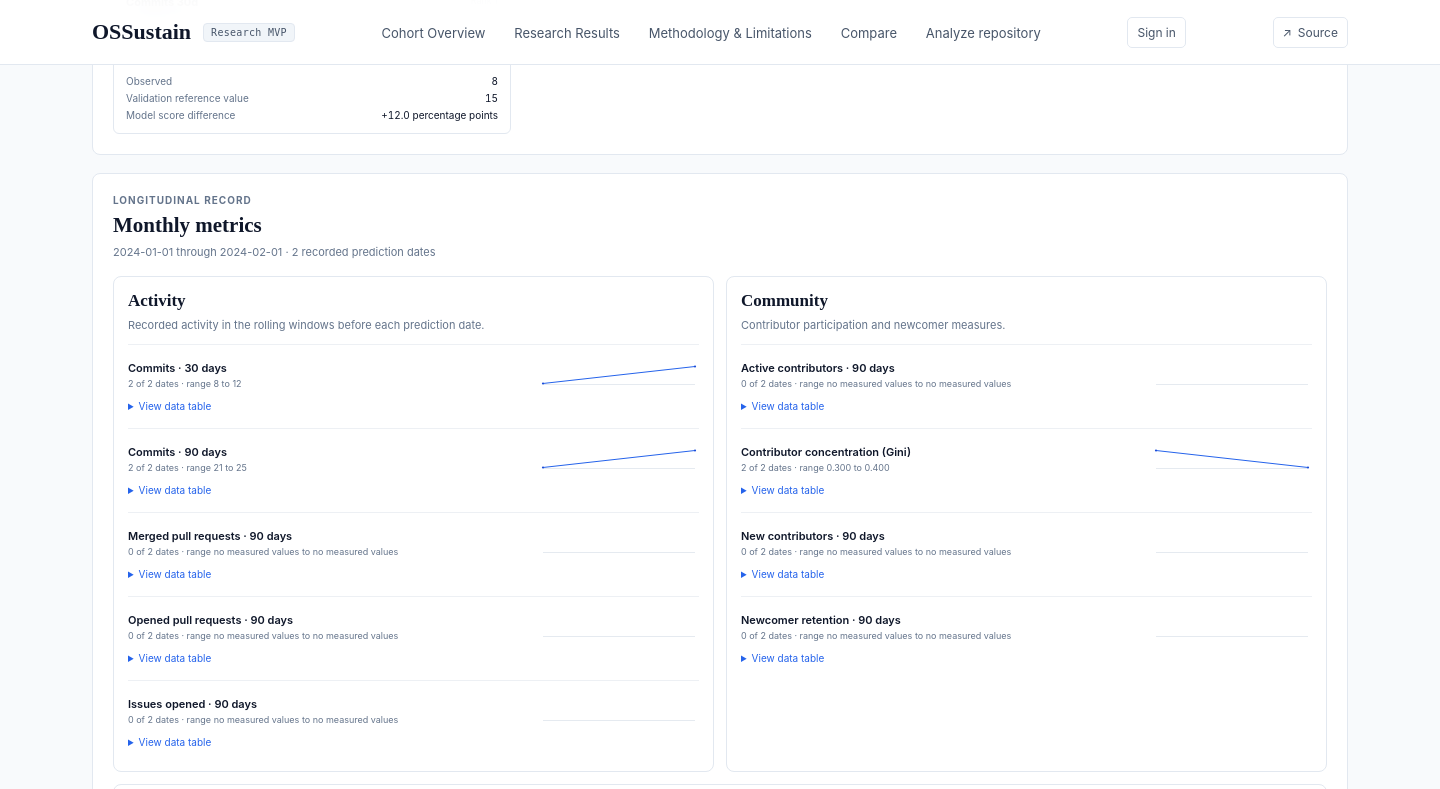
Dashboard screens › renders live repository detail, prediction indicators, charts, and accessible table data
(page scrolled)
Expected: the text "This value is associated with a higher model risk score, not a causal effect." is shown, x1=126 y1=18 x2=479 y2=30
Expected: the picture named "Commits · 30 days over 2 prediction dates" is shown, x1=539 y1=354 x2=699 y2=396
Click the heading "View data table" below "Commits · 30 days".
click(170, 406)  # box x1=128 y1=400 x2=211 y2=412
(page scrolled)
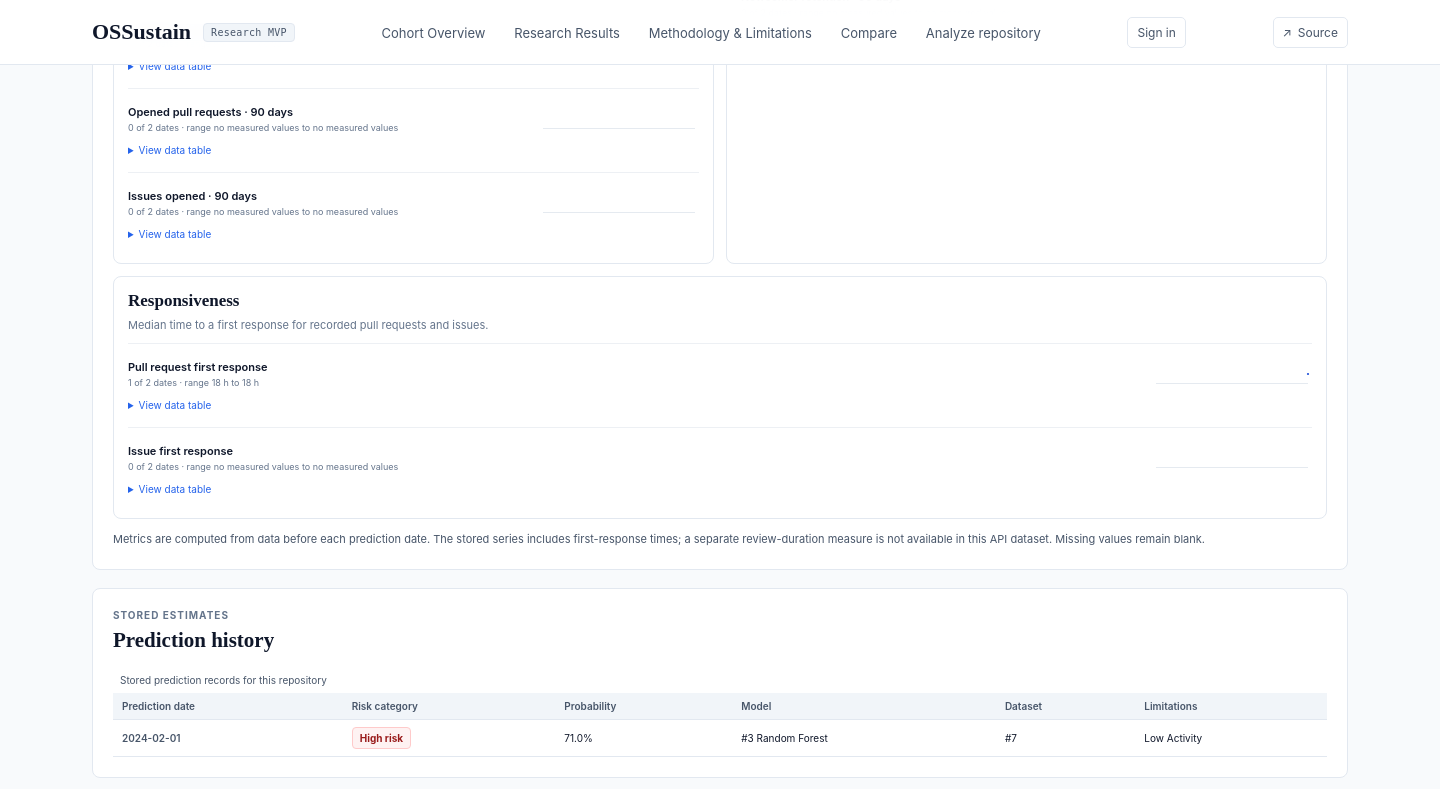
Expected: the table "Stored prediction records for this repository" is shown, x1=113 y1=667 x2=1327 y2=757
Expected: the element "Pull request first response" is shown, x1=128 y1=343 x2=1312 y2=420
Click the heading "View data table" below "Pull request first response".
click(170, 405)  # box x1=128 y1=399 x2=211 y2=411
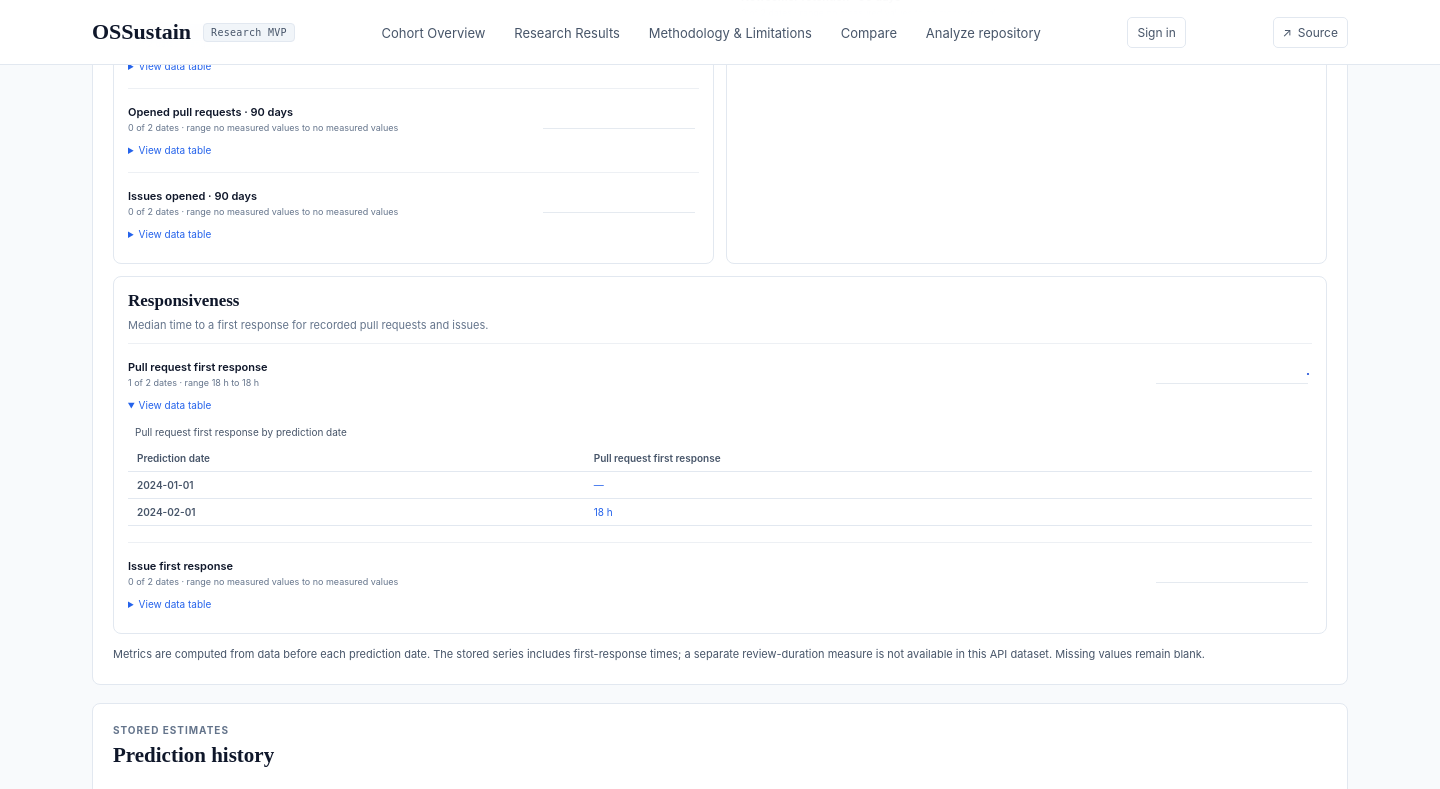
Expected: the text "—" is shown, x1=585 y1=472 x2=1312 y2=498
